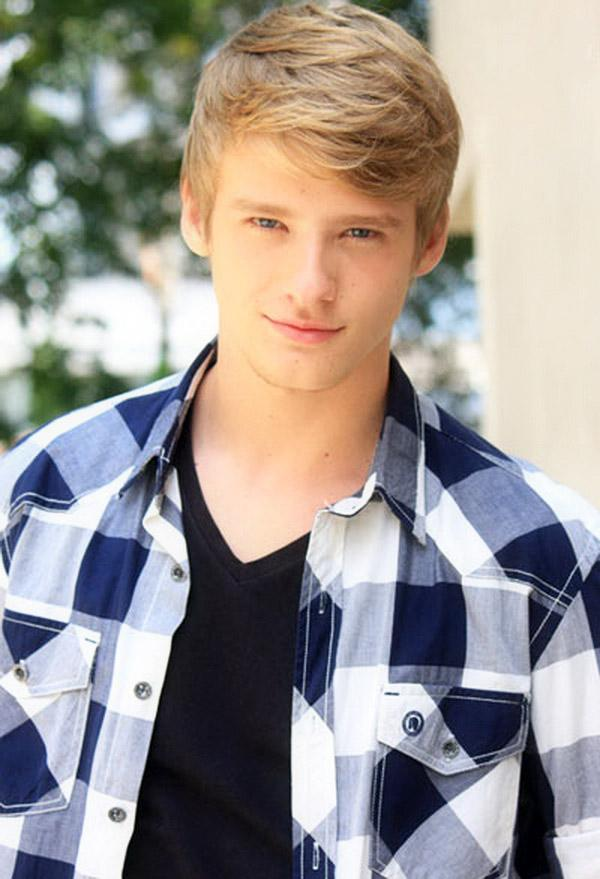person: (110, 11, 530, 794)
